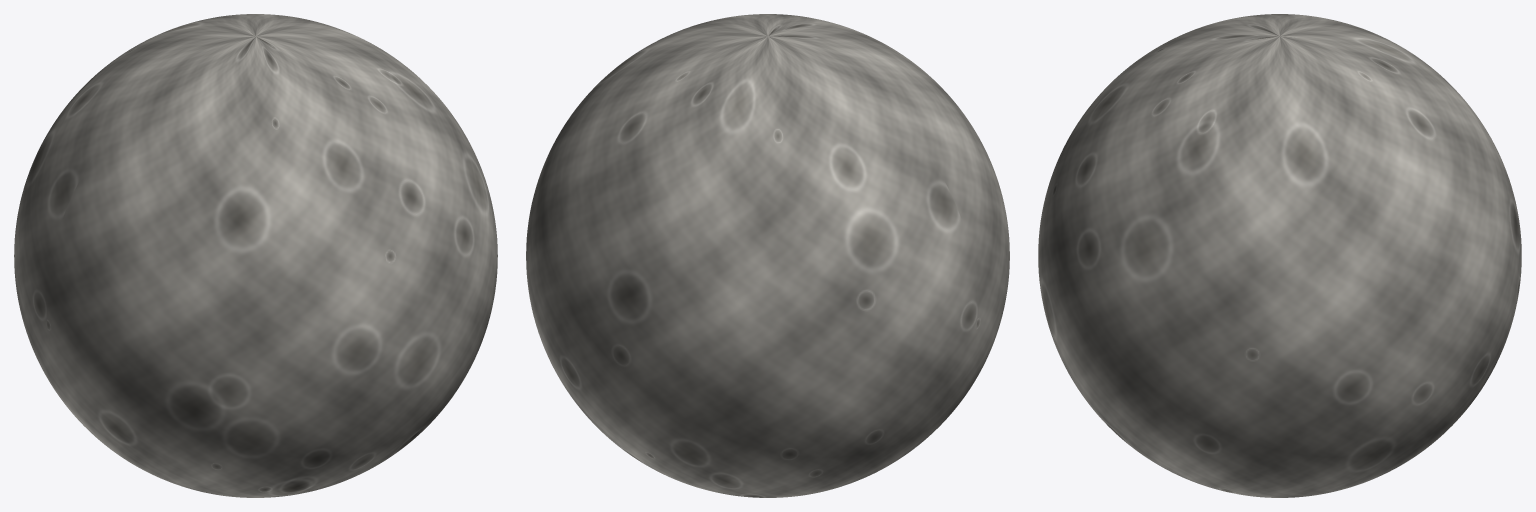
File: nereid.glb
3 views of the same model, side by side, from view 1: azimuth 30°, elevation 25°; view 2: azimuth 150°, elevation 25°; view 3: azimuth 270°, elevation 25° (orthographic).
Parts seen in each view (by area): view 1: Nereid_Asset; view 2: Nereid_Asset; view 3: Nereid_Asset.
Boxes of the visible parts, <box> form: Nereid_Asset: <box>14,14,497,497</box>; Nereid_Asset: <box>526,14,1009,497</box>; Nereid_Asset: <box>1038,14,1521,497</box>.
Size of the model in its own units: 0.3994 by 0.4 by 0.3994.
1 material, 1 textured.
